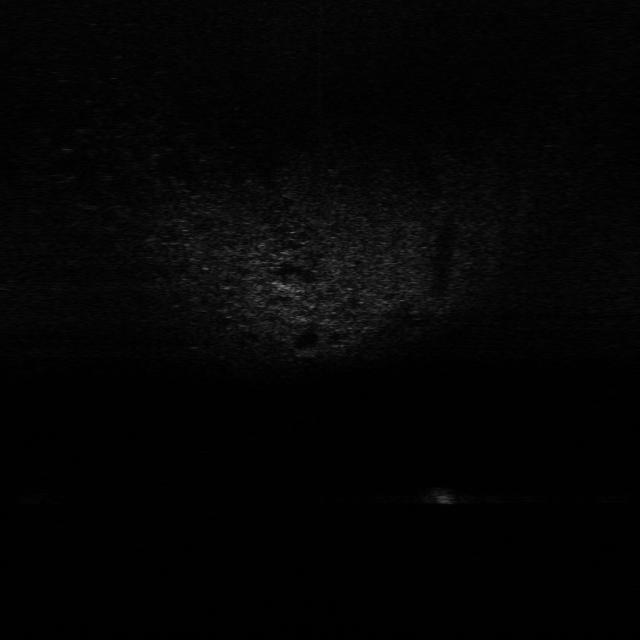cylinder: (431, 484, 478, 507)
